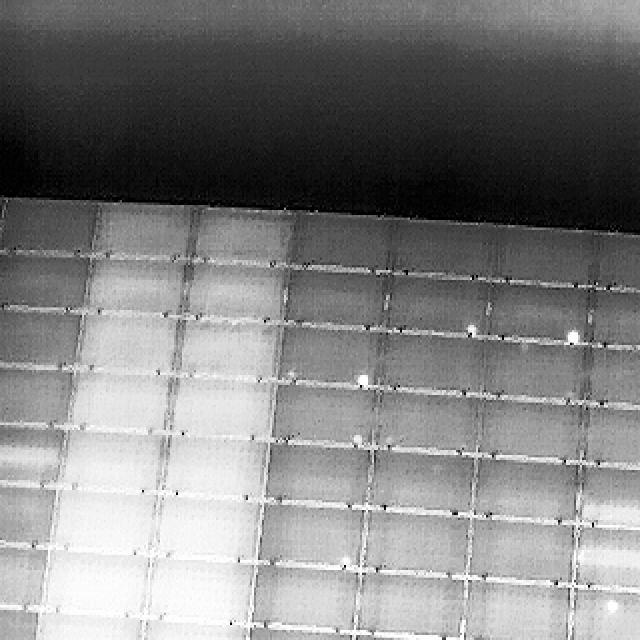Hotspots: (598, 594, 624, 615), (331, 553, 356, 573), (560, 329, 583, 349), (351, 368, 374, 387), (461, 322, 484, 339)
PV-modules: (150, 492, 267, 564), (248, 559, 363, 631), (41, 545, 154, 618), (251, 502, 364, 574), (352, 570, 468, 640), (144, 553, 258, 624), (360, 510, 473, 581), (472, 392, 586, 462), (366, 447, 475, 519), (257, 441, 371, 509), (375, 329, 490, 396), (468, 453, 578, 523), (469, 518, 579, 588), (372, 388, 482, 458), (159, 435, 269, 505), (52, 484, 160, 555), (482, 335, 593, 404), (270, 381, 380, 449), (58, 425, 166, 492), (275, 321, 381, 389), (172, 317, 280, 383), (488, 280, 596, 346), (490, 227, 602, 290), (458, 577, 570, 640), (286, 208, 395, 272), (70, 368, 173, 435), (381, 274, 490, 337), (171, 376, 275, 442), (77, 312, 181, 378), (180, 258, 287, 322), (282, 264, 390, 327), (385, 220, 491, 284), (84, 254, 189, 316), (186, 205, 290, 266), (92, 202, 196, 259), (0, 196, 95, 257), (1, 252, 89, 313), (0, 306, 80, 371), (570, 525, 640, 595), (574, 465, 640, 535), (564, 582, 640, 640), (578, 402, 640, 472), (0, 364, 72, 424), (0, 422, 62, 486), (30, 605, 142, 640), (584, 287, 640, 355), (586, 340, 640, 408), (0, 481, 53, 548), (136, 612, 250, 640), (0, 544, 47, 609), (592, 235, 640, 295), (238, 622, 354, 640), (0, 602, 38, 640), (348, 635, 460, 640)
